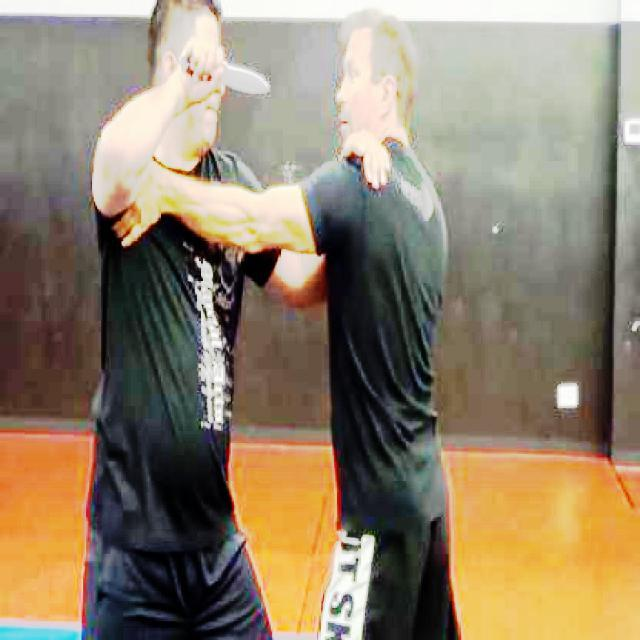Knife: (184, 55, 276, 104)
